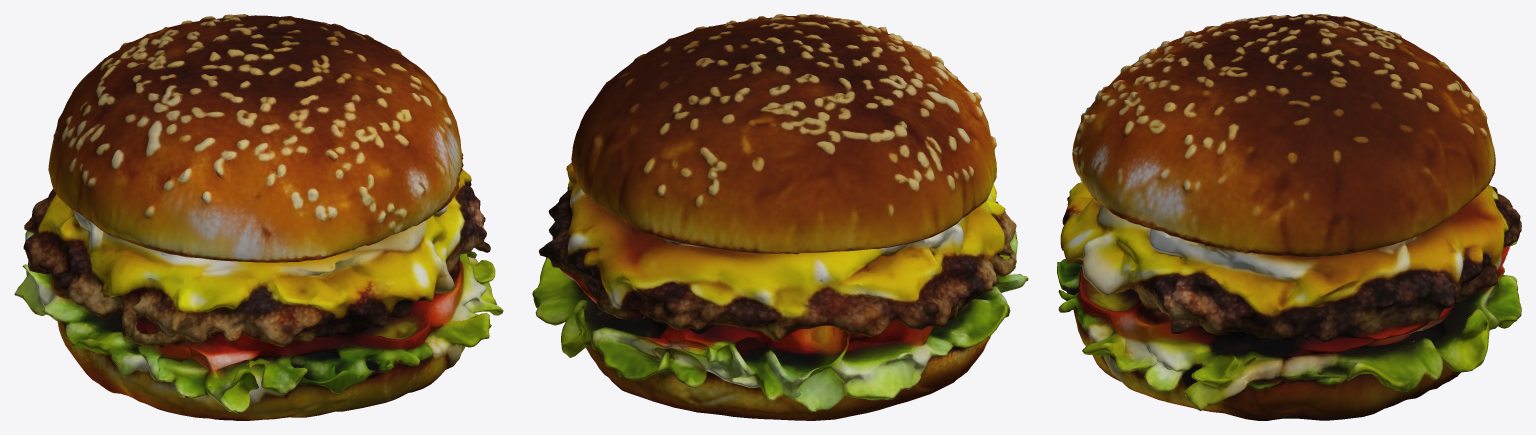
File: classico.glb
3 renders of one model, left to right at view 1: azimuth 30°, elevation 25°; view 2: azimuth 150°, elevation 25°; view 3: azimuth 270°, elevation 25°, orthographic.
Visible parts, largest first — view 1: classico; view 2: classico; view 3: classico.
Boxes of the visible parts, left/top/right/bottom form: classico: left=14, top=14, right=503, bottom=420; classico: left=532, top=14, right=1028, bottom=420; classico: left=1057, top=14, right=1521, bottom=420.
Bounding box in the file's own units: 0.11 × 0.0766 × 0.1099.
1 material, 1 textured.
